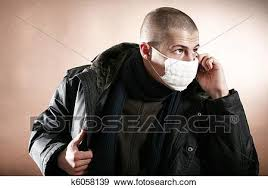masked: (136, 8, 209, 89)
